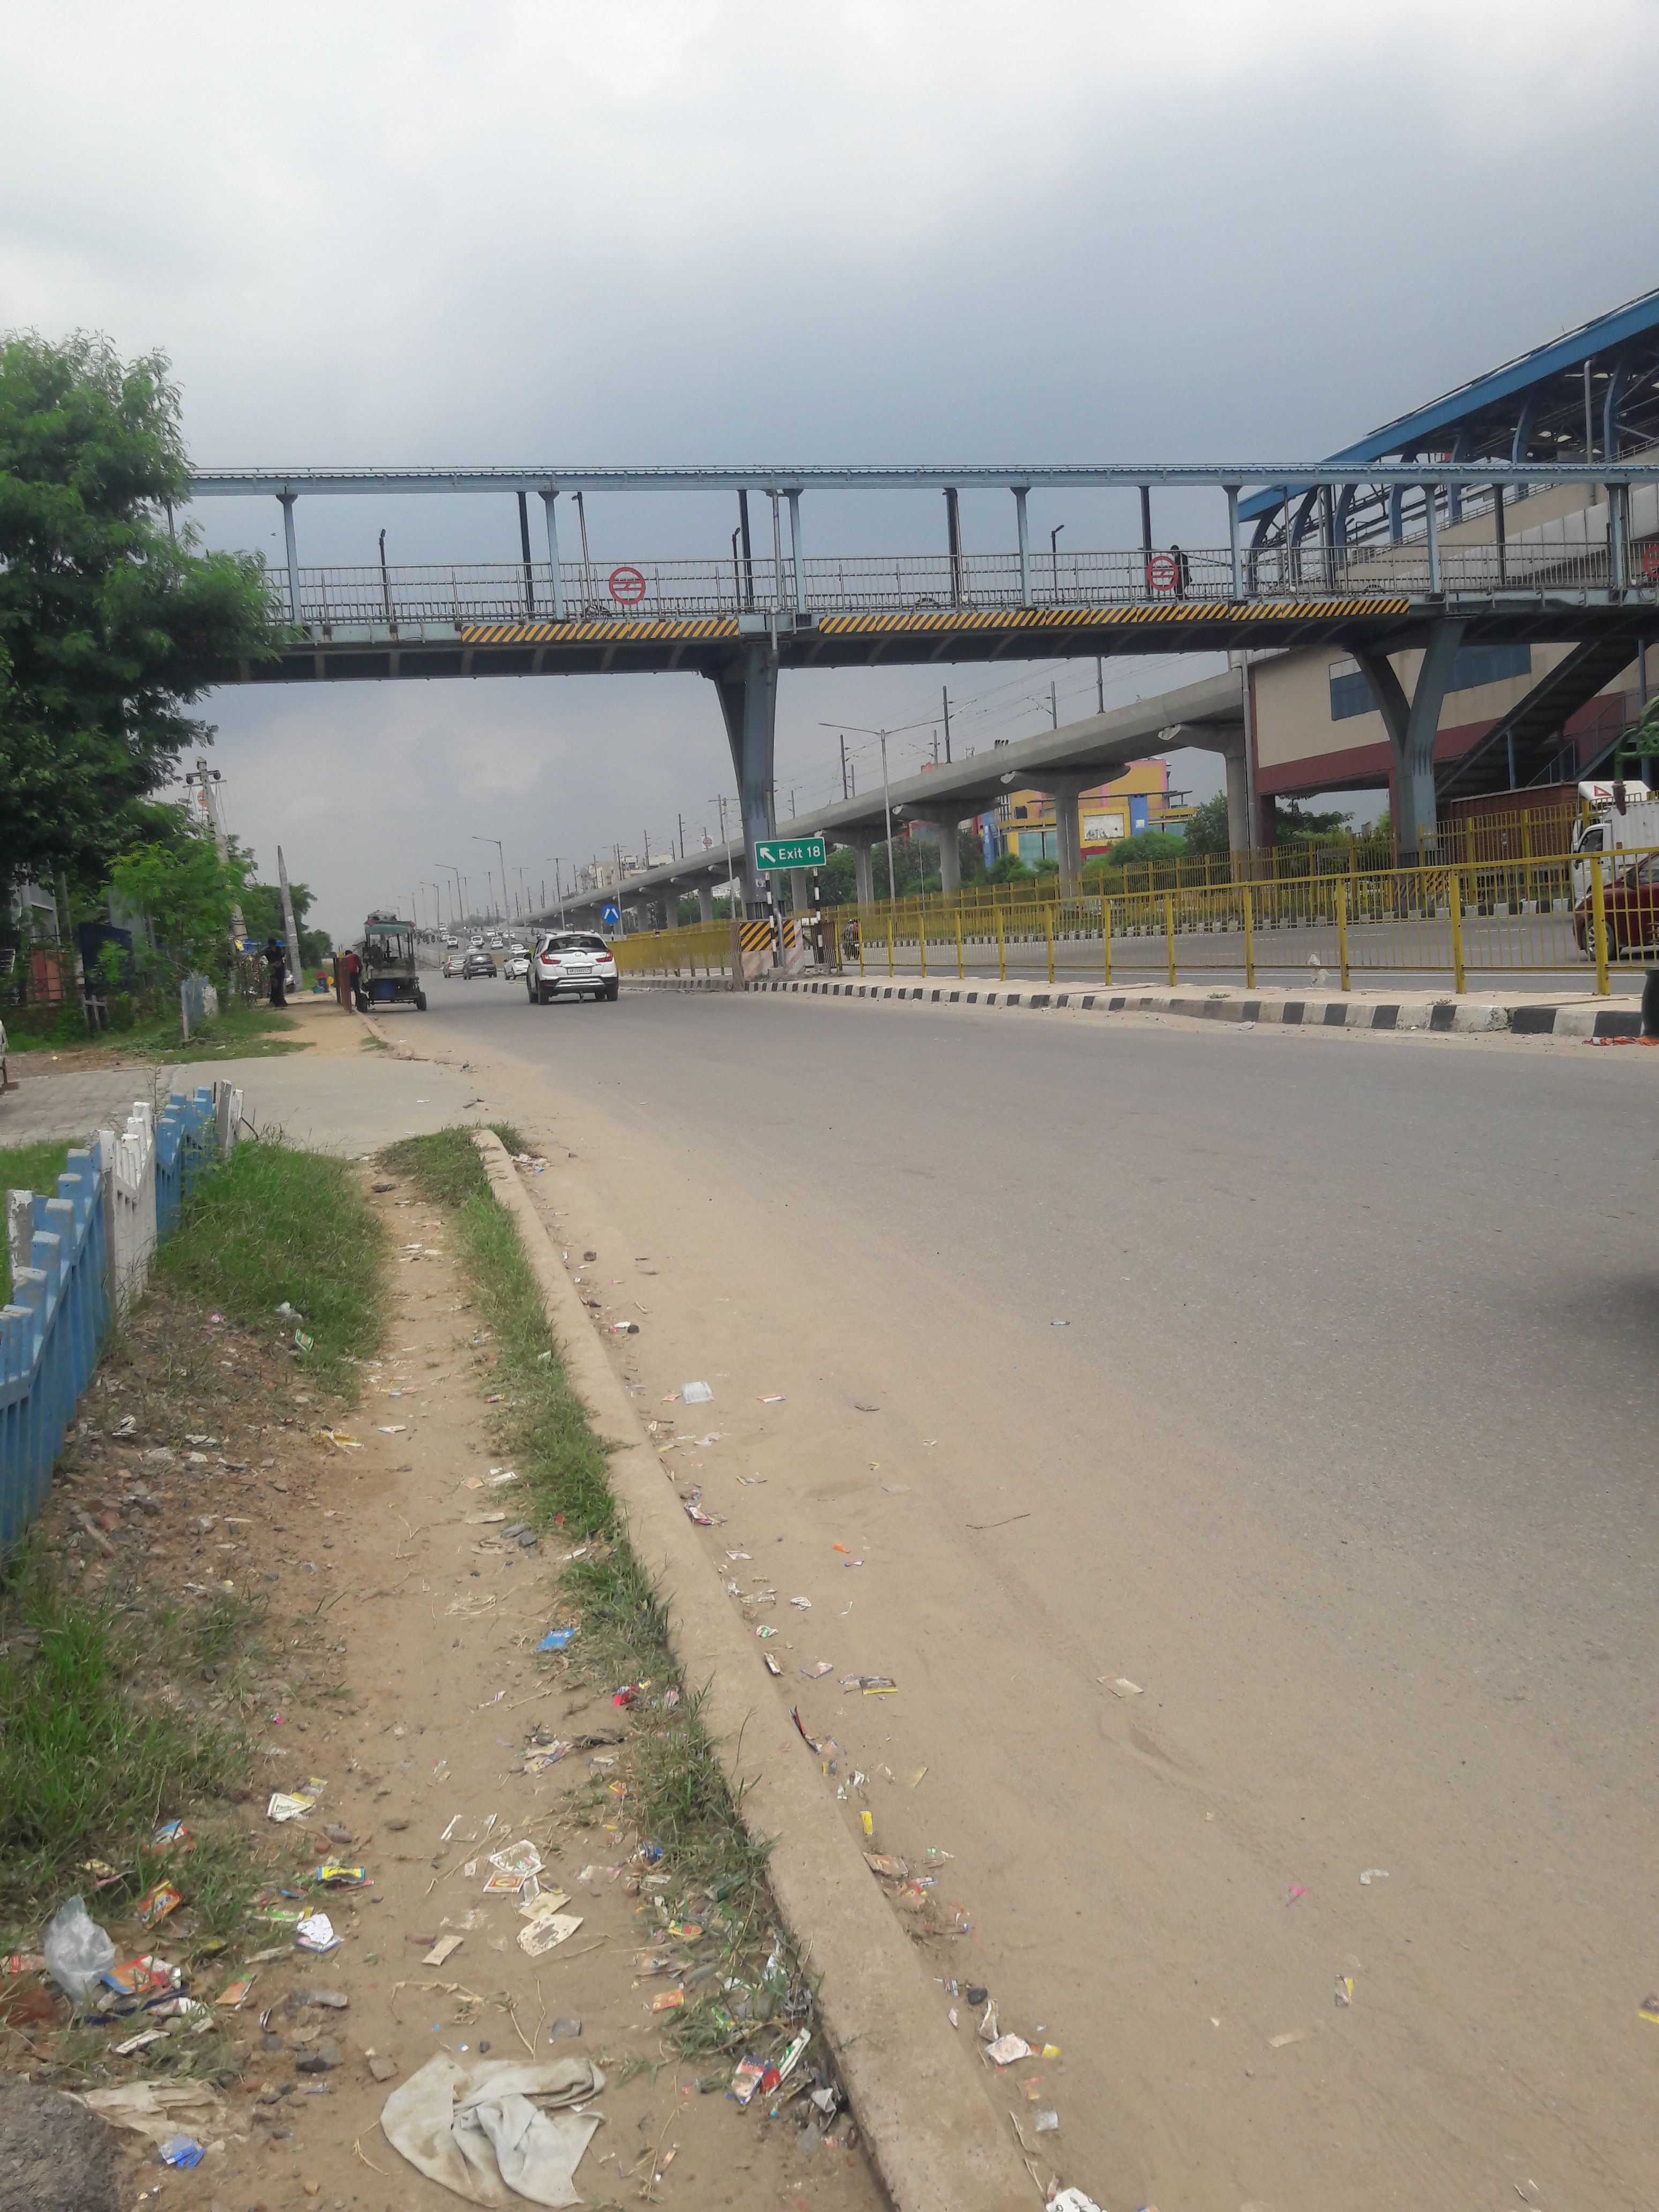traffic_sign: (603, 907, 619, 921)
